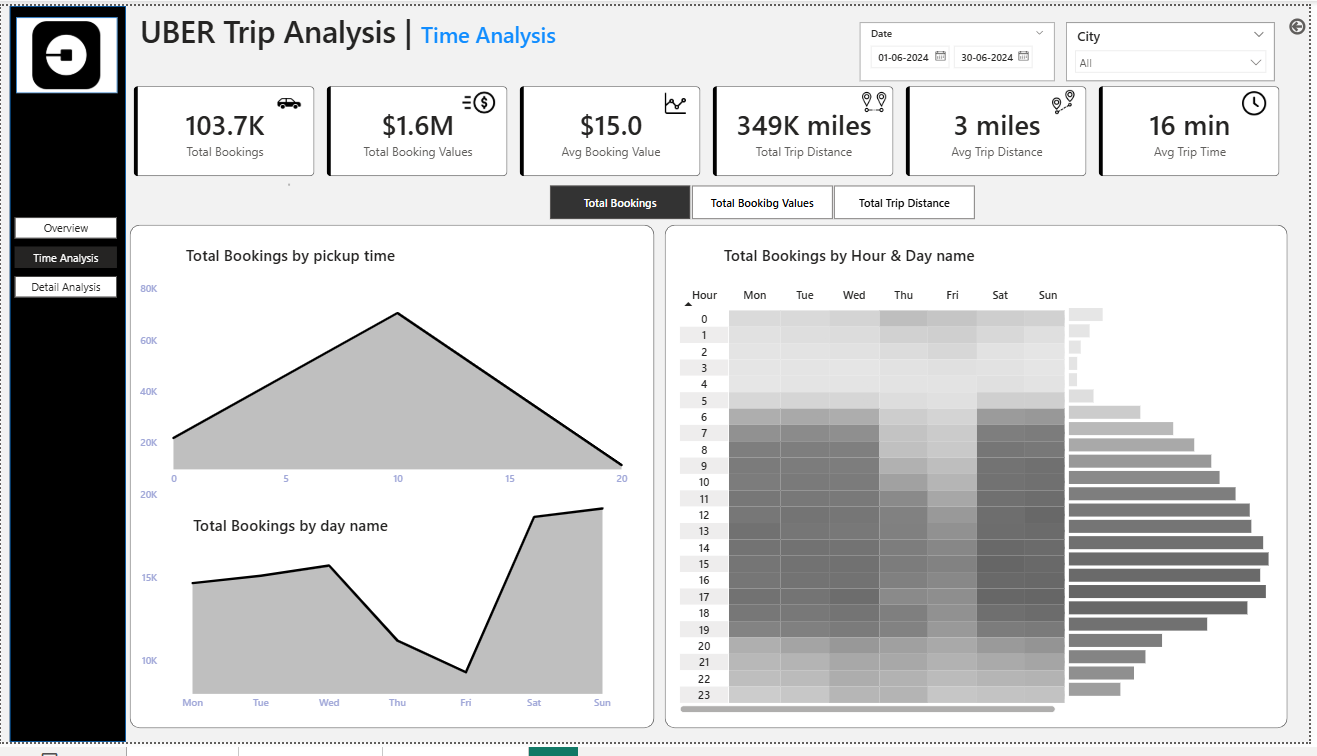

What the dashboard file says about the page in this screenshot:
{"tool":"powerbi","page":{"name":"Time Analysis","canvas":[1600,900],"ordinal":1},"visuals":[{"type":"shape","box":[10.3,0,142,900],"z":0},{"type":"textbox","box":[164.7,0,574.6,60],"z":1000},{"type":"cardVisual","fields":{"Data":["Trip Details.Total Bookings","Trip Details.Total Bookibg Values","Trip Details.Avg Booking Value","Trip Details.Total Trip Distance","Trip Details.Avg Trip Distance","Trip Details.Avg Trip Time"]},"box":[157,93,1415,120],"z":2000},{"type":"image","box":[559.2,92.6,50,50],"z":3000},{"type":"shape","box":[157.8,267.6,641.5,615.8],"z":4000},{"type":"image","box":[1042.9,97.8,49.7,39.5],"z":5000},{"type":"image","box":[1274.4,97.8,49.7,39.5],"z":6000},{"type":"image","box":[157.8,212.7,389.4,12],"z":7000},{"type":"slicer","fields":{"Values":["Dynamic Measure.Dynamic Measure"]},"box":[644.9,212.7,569.5,54.9],"z":8000},{"type":"image","box":[1507.7,99.5,49.7,39.5],"z":9000},{"type":"image","box":[327.6,99.5,49.7,39.5],"z":10000},{"type":"image","box":[799.3,99.5,49.7,39.5],"z":11000},{"type":"actionButton","box":[1571.8,0,27.8,50],"z":12000},{"type":"slicer","fields":{"Values":["Calender Table.Date"]},"box":[1049.7,20.6,238.4,72],"z":13000},{"type":"slicer","fields":{"Values":["Location Table.City"]},"box":[1301.9,20.6,255.6,72],"z":14000},{"type":"areaChart","fields":{"Y":["Trip Details.Total Bookings"],"Category":["Trip Details.Hour(HH:MM:SS) (bins)"]},"box":[164.7,331,608.9,264.2],"z":15000},{"type":"card","fields":{"Values":["Dynamic Measure.Title For Pickup Time"]},"box":[181.8,283,344.8,48],"z":16000},{"type":"areaChart","fields":{"Y":["Trip Details.Total Bookings"],"Category":["Calender Table.Day Name"]},"box":[164.7,583.2,608.9,286.5],"z":17000},{"type":"card","fields":{"Values":["Dynamic Measure.Title For Day Name"]},"box":[181.8,612.4,344.8,48],"z":18000},{"type":"shape","box":[811.3,267.6,761.6,615.8],"z":19000},{"type":"pivotTable","fields":{"Values":["Trip Details.Total Bookings"],"Rows":["Trip Details.Hour(HH:MM:SS)"],"Columns":["Calender Table.Day Name"]},"box":[825,337.9,480.3,531.7],"z":20000},{"type":"barChart","fields":{"Y":["Trip Details.Total Bookings"],"Category":["Trip Details.Hour(HH:MM:SS)"]},"box":[1300.2,356.8,257.3,512.9],"z":21000},{"type":"card","fields":{"Values":["Dynamic Measure.Title For Hour & Day"]},"box":[864.5,283,344.8,48],"z":22000},{"type":"pageNavigator","box":[17.1,257.6,125.7,99.3],"z":23000},{"type":"shape","box":[18.6,14,124.1,93.1],"z":24000},{"type":"image","box":[3.1,14,153.6,93.1],"z":25000}]}

Visuals, with their boxes on the page's 1600x900 design canvas (x1, y1, x2, y2). These are canvas units, not pixel positions in the 1317x756 screenshot, which may show the page scaled, cropped or inside an application window:
shape: box=[10, 0, 152, 900]
textbox: box=[165, 0, 739, 60]
cardVisual - Trip Details.Total Bookings x Trip Details.Total Bookibg Values: box=[157, 93, 1572, 213]
image: box=[559, 93, 609, 143]
shape: box=[158, 268, 799, 883]
image: box=[1043, 98, 1093, 137]
image: box=[1274, 98, 1324, 137]
image: box=[158, 213, 547, 225]
slicer - Dynamic Measure.Dynamic Measure: box=[645, 213, 1214, 268]
image: box=[1508, 100, 1557, 139]
image: box=[328, 100, 377, 139]
image: box=[799, 100, 849, 139]
actionButton: box=[1572, 0, 1600, 50]
slicer - Calender Table.Date: box=[1050, 21, 1288, 93]
slicer - Location Table.City: box=[1302, 21, 1558, 93]
areaChart - Trip Details.Total Bookings x Trip Details.Hour(HH:MM:SS) (bins): box=[165, 331, 774, 595]
card - Dynamic Measure.Title For Pickup Time: box=[182, 283, 527, 331]
areaChart - Trip Details.Total Bookings x Calender Table.Day Name: box=[165, 583, 774, 870]
card - Dynamic Measure.Title For Day Name: box=[182, 612, 527, 660]
shape: box=[811, 268, 1573, 883]
pivotTable - Trip Details.Total Bookings x Trip Details.Hour(HH:MM:SS): box=[825, 338, 1305, 870]
barChart - Trip Details.Total Bookings x Trip Details.Hour(HH:MM:SS): box=[1300, 357, 1558, 870]
card - Dynamic Measure.Title For Hour & Day: box=[864, 283, 1209, 331]
pageNavigator: box=[17, 258, 143, 357]
shape: box=[19, 14, 143, 107]
image: box=[3, 14, 157, 107]
